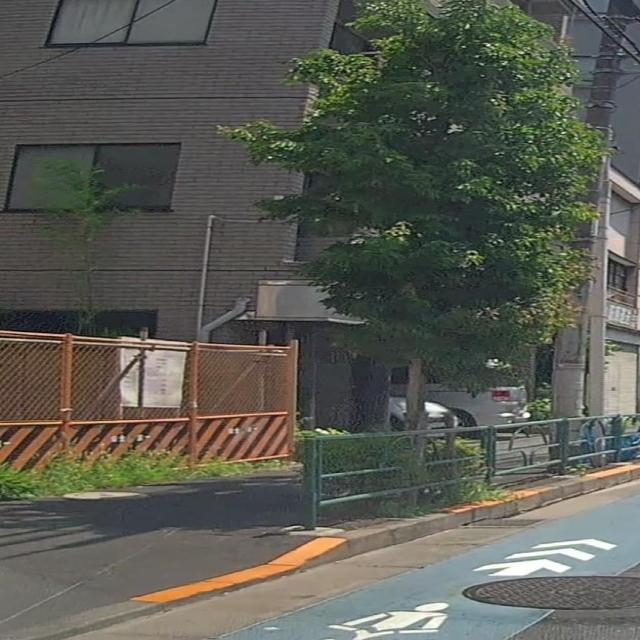maple: (215, 0, 628, 504)
